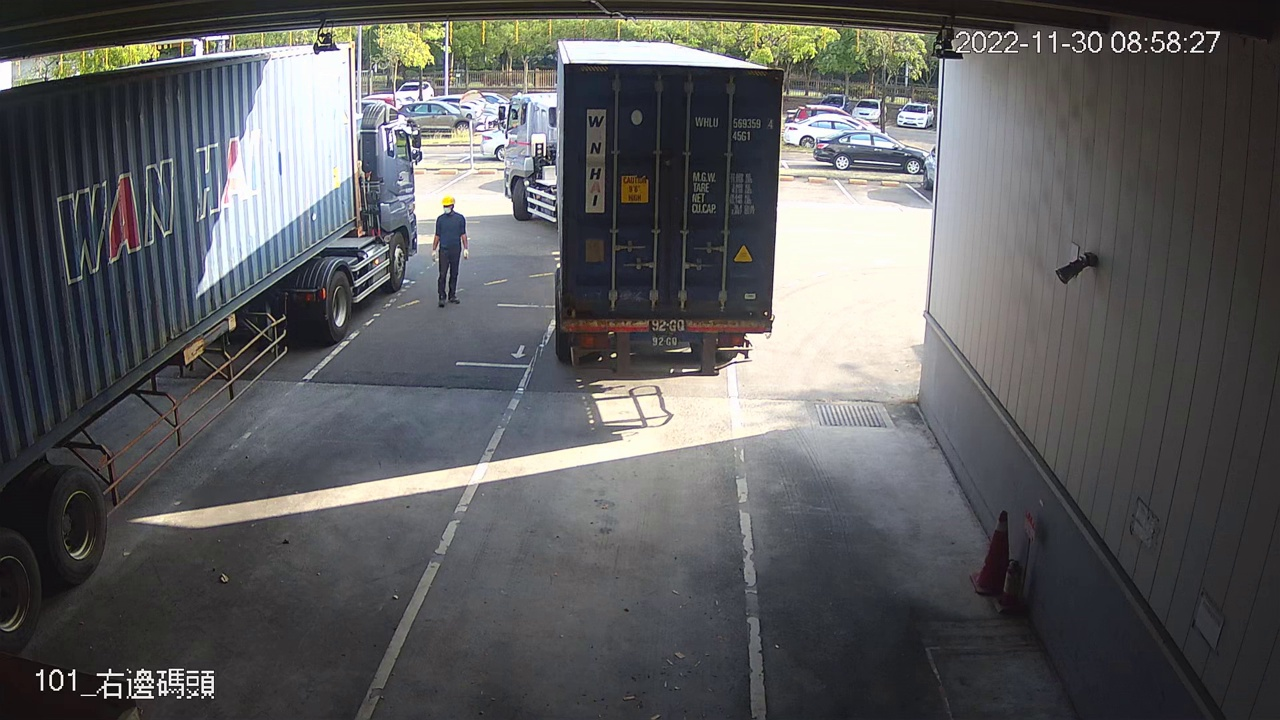container: (692, 112, 777, 147)
